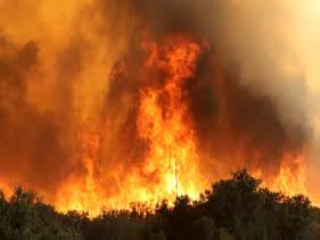fire: (38, 42, 204, 212), (222, 146, 310, 200)
smoke: (199, 17, 315, 142)
